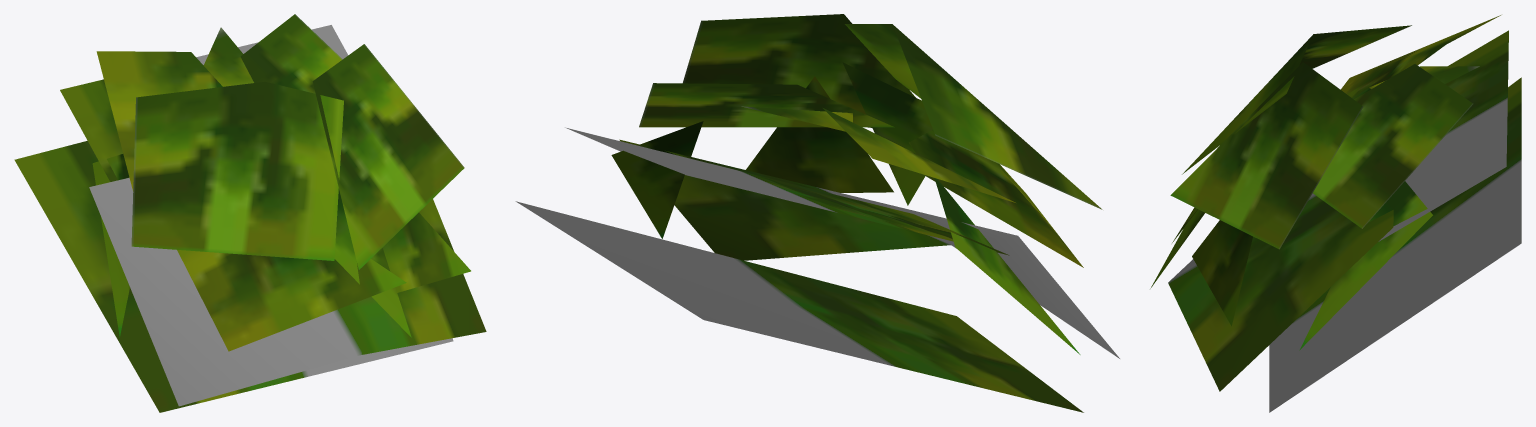
The model's file is fg_bushA_2.dae.
3 renders of one model, left to right at view 1: azimuth 30°, elevation 25°; view 2: azimuth 150°, elevation 25°; view 3: azimuth 270°, elevation 25°, orthographic. The views are drawn at different scales.
Visible parts, largest first — view 1: fg_bushA_2; view 2: fg_bushA_2; view 3: fg_bushA_2.
Part boxes in pixels (x1,y1,x2,y2): fg_bushA_2: (14, 14, 486, 412); fg_bushA_2: (515, 14, 1119, 412); fg_bushA_2: (1150, 15, 1521, 412).
Bounding box in the file's own units: 42.31 × 33.77 × 38.68.
1 material, 1 textured.
